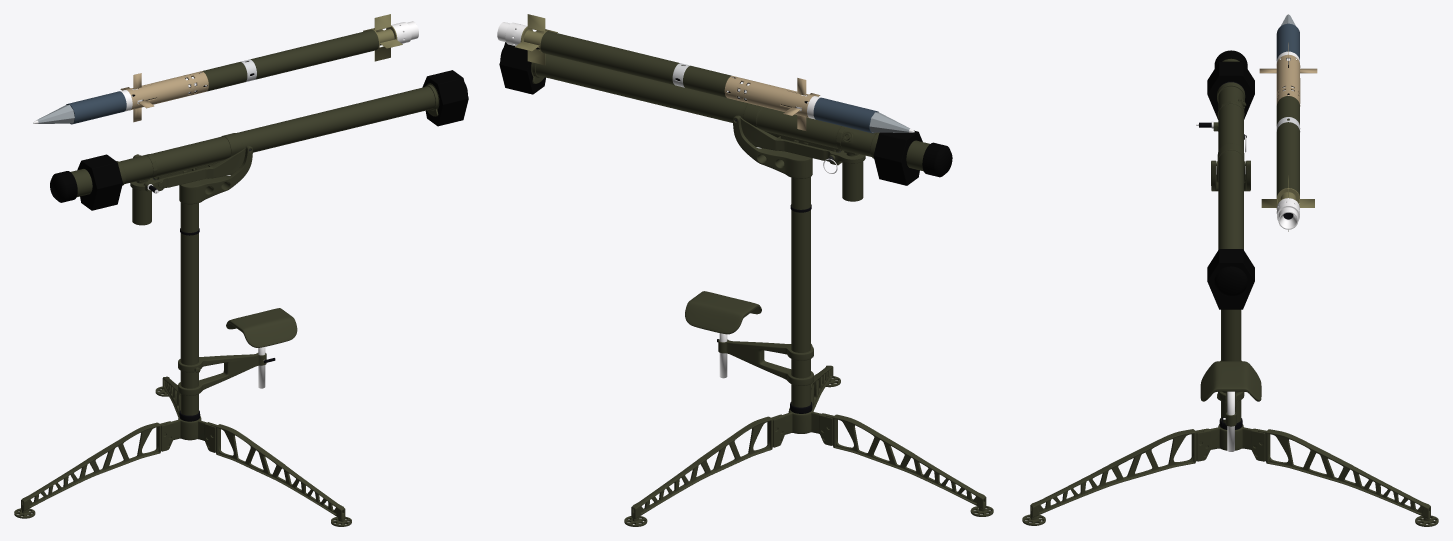
Rendered from mistral_complex.glb.
The picture shows the model from 3 angles, left to right: view 1: azimuth 30°, elevation 25°; view 2: azimuth 150°, elevation 25°; view 3: azimuth 270°, elevation 25°; orthographic projection. The views are drawn at different scales.
Parts seen in each view (by area): view 1: launcher, tripod_leg, tripod_axis, roket_body_back, cap_front, seat, cap_back, servomotor_section, seat_mount, mount, mount_launcher, roket_body_front (+3 smaller); view 2: launcher, tripod_leg, tripod_axis, roket_body_back, cap_front, seat, seat_mount, servomotor_section, mount, mount_launcher, roket_body_front, cap_back (+4 smaller); view 3: tripod_leg, launcher, cap_back, roket_body_back, seat, cap_front, tripod_axis, servomotor_section, tripod_leg_mount, tripod_leg_base, roket_body_front, launch_motor.
Part boxes in pixels (box(x1,y1,x2,y2)): launcher: box(116, 83, 439, 185); tripod_leg: box(21, 376, 345, 519); tripod_axis: box(180, 202, 198, 415); roket_body_back: box(202, 29, 378, 91); cap_front: box(50, 154, 122, 210); seat: box(226, 308, 297, 347); cap_back: box(422, 70, 468, 126); servomotor_section: box(125, 71, 208, 110); seat_mount: box(178, 353, 266, 395); mount: box(130, 145, 248, 191); mount_launcher: box(179, 146, 252, 204); roket_body_front: box(66, 90, 132, 124); launcher: box(531, 48, 879, 158); tripod_leg: box(631, 365, 986, 518); tripod_axis: box(791, 177, 810, 407); roket_body_back: box(540, 31, 731, 97); cap_front: box(873, 130, 952, 185); seat: box(685, 291, 761, 334); seat_mount: box(718, 339, 813, 385); servomotor_section: box(724, 76, 814, 117); mount: box(737, 115, 865, 165); mount_launcher: box(733, 115, 812, 178); roket_body_front: box(807, 96, 878, 133); cap_back: box(499, 42, 545, 94); tripod_leg: box(1030, 429, 1430, 518); launcher: box(1217, 81, 1246, 249); cap_back: box(1207, 249, 1254, 309); roket_body_back: box(1276, 96, 1299, 197); seat: box(1200, 361, 1261, 401); cap_front: box(1207, 50, 1254, 119); tripod_axis: box(1221, 309, 1241, 422); servomotor_section: box(1276, 54, 1300, 106); tripod_leg_mount: box(1195, 428, 1266, 461); tripod_leg_base: box(1203, 424, 1258, 450); roket_body_front: box(1276, 23, 1299, 63); launch_motor: box(1276, 198, 1299, 229).
Bounding box in the file's own units: 2.18 × 1.8 × 1.59.
